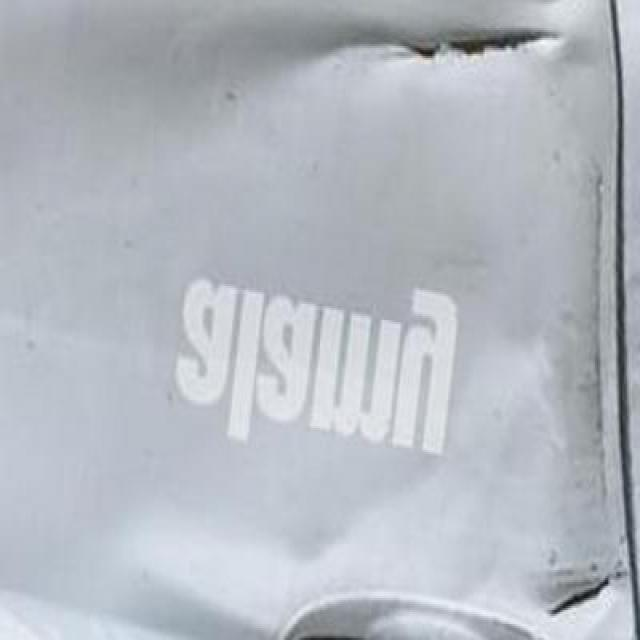dent: (386, 13, 570, 77), (548, 530, 620, 640)
